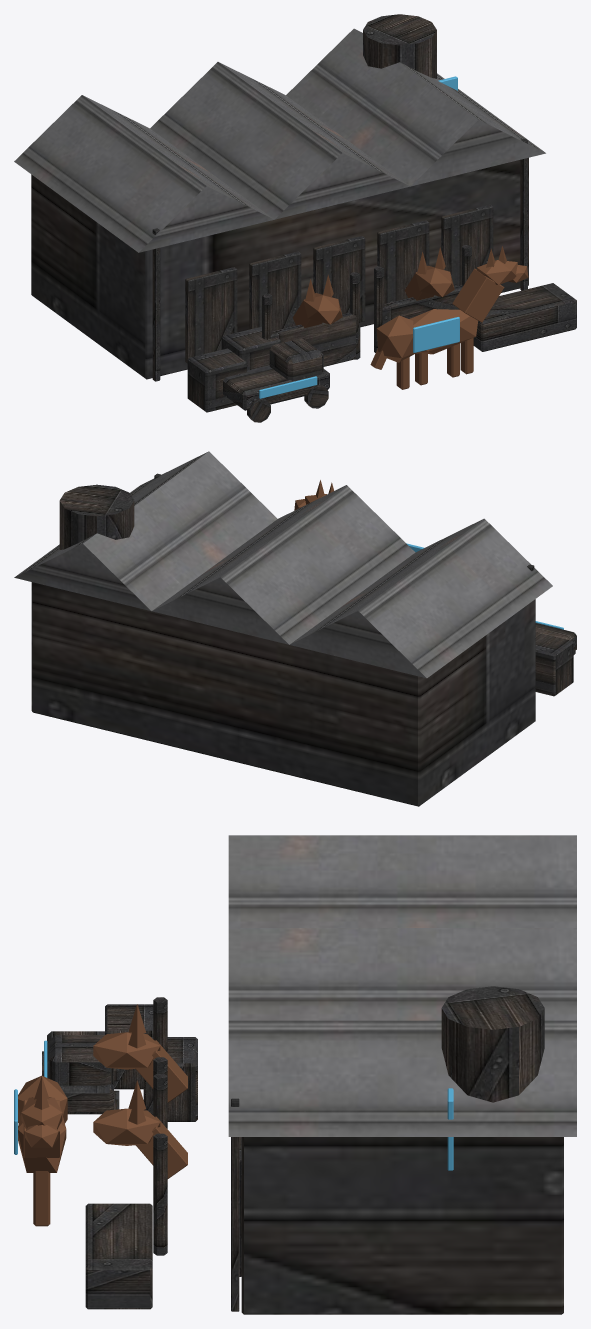
File: edificio-b_017-e4-lod0-me7x_6eP.glb
3 renders of one model, top to bottom at view 1: azimuth 30°, elevation 25°; view 2: azimuth 150°, elevation 25°; view 3: azimuth 270°, elevation 25°, orthographic. The views are drawn at different scales.
Visible parts, largest first — view 1: envolvente_establo, caballos_establo, team_color; view 2: envolvente_establo; view 3: envolvente_establo, caballos_establo, team_color.
Part boxes in pixels (x1,y1,x2,y2): envolvente_establo: (14, 14, 576, 422); caballos_establo: (293, 246, 528, 389); team_color: (259, 76, 459, 398); envolvente_establo: (14, 451, 576, 806); envolvente_establo: (42, 835, 576, 1314); caballos_establo: (18, 1004, 187, 1226); team_color: (14, 1040, 453, 1170).
Bounding box in the file's own units: 51 × 24.05 × 43.66.
3 materials, 1 textured.
